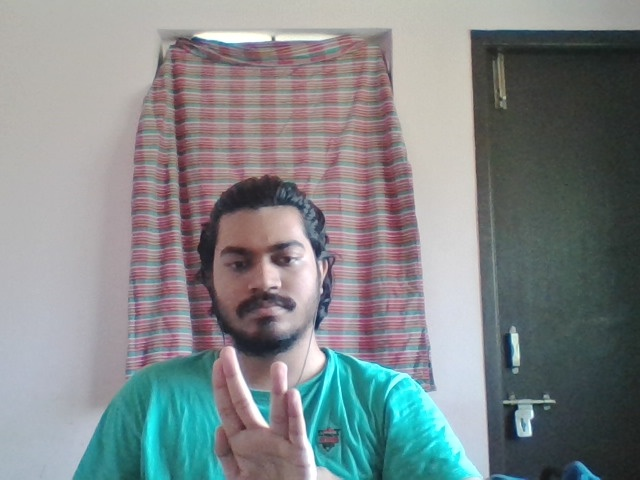LiveLong: (212, 348, 318, 480)
